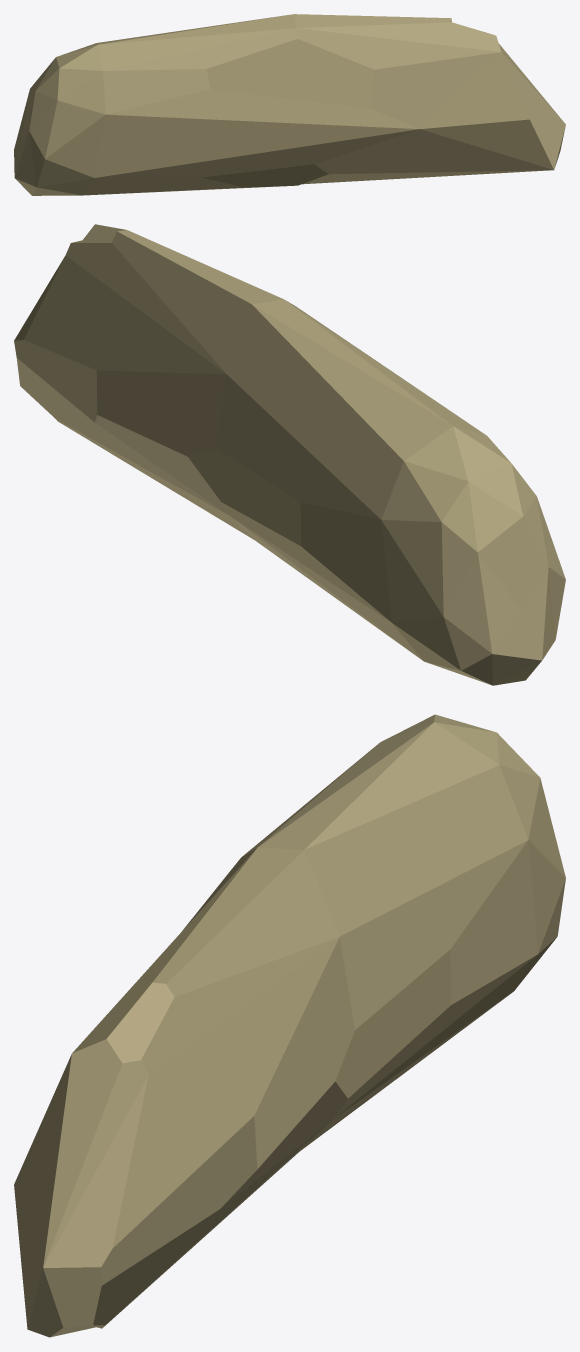
The model's file is stonehenge-3.fbx.
3 views of the same model, one above another, from view 1: azimuth 30°, elevation 25°; view 2: azimuth 150°, elevation 25°; view 3: azimuth 270°, elevation 25° (orthographic). The views are drawn at different scales.
Parts seen in each view (by area): view 1: Icosphere.005; view 2: Icosphere.005; view 3: Icosphere.005.
Part boxes in pixels (bbox=[...]): Icosphere.005: bbox=[14, 14, 565, 195]; Icosphere.005: bbox=[14, 224, 565, 685]; Icosphere.005: bbox=[14, 714, 565, 1337].
Size of the model in its own units: 1053 by 364 by 582.
